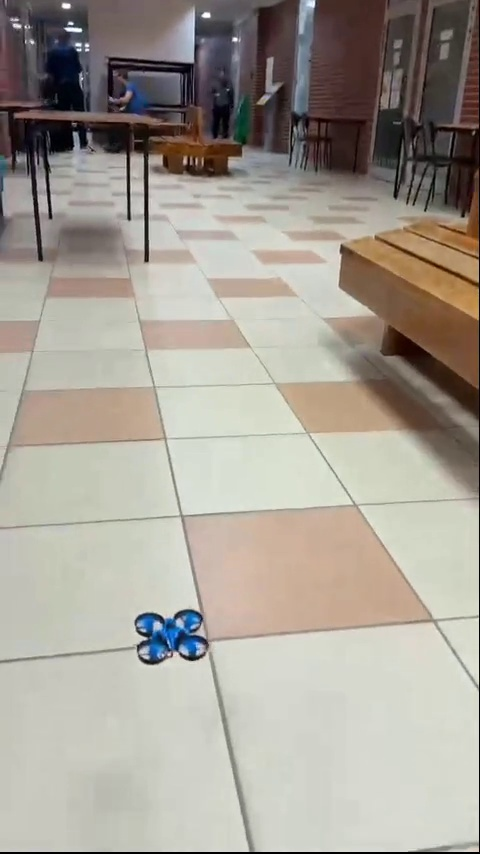drone: (131, 608, 209, 668)
no vest: (38, 25, 93, 121), (203, 54, 248, 141), (98, 60, 152, 120)
